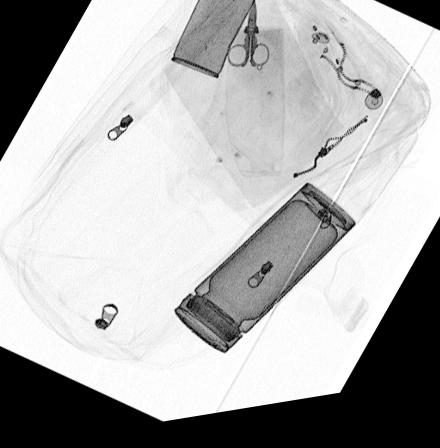Scissors: (224, 4, 270, 80)
